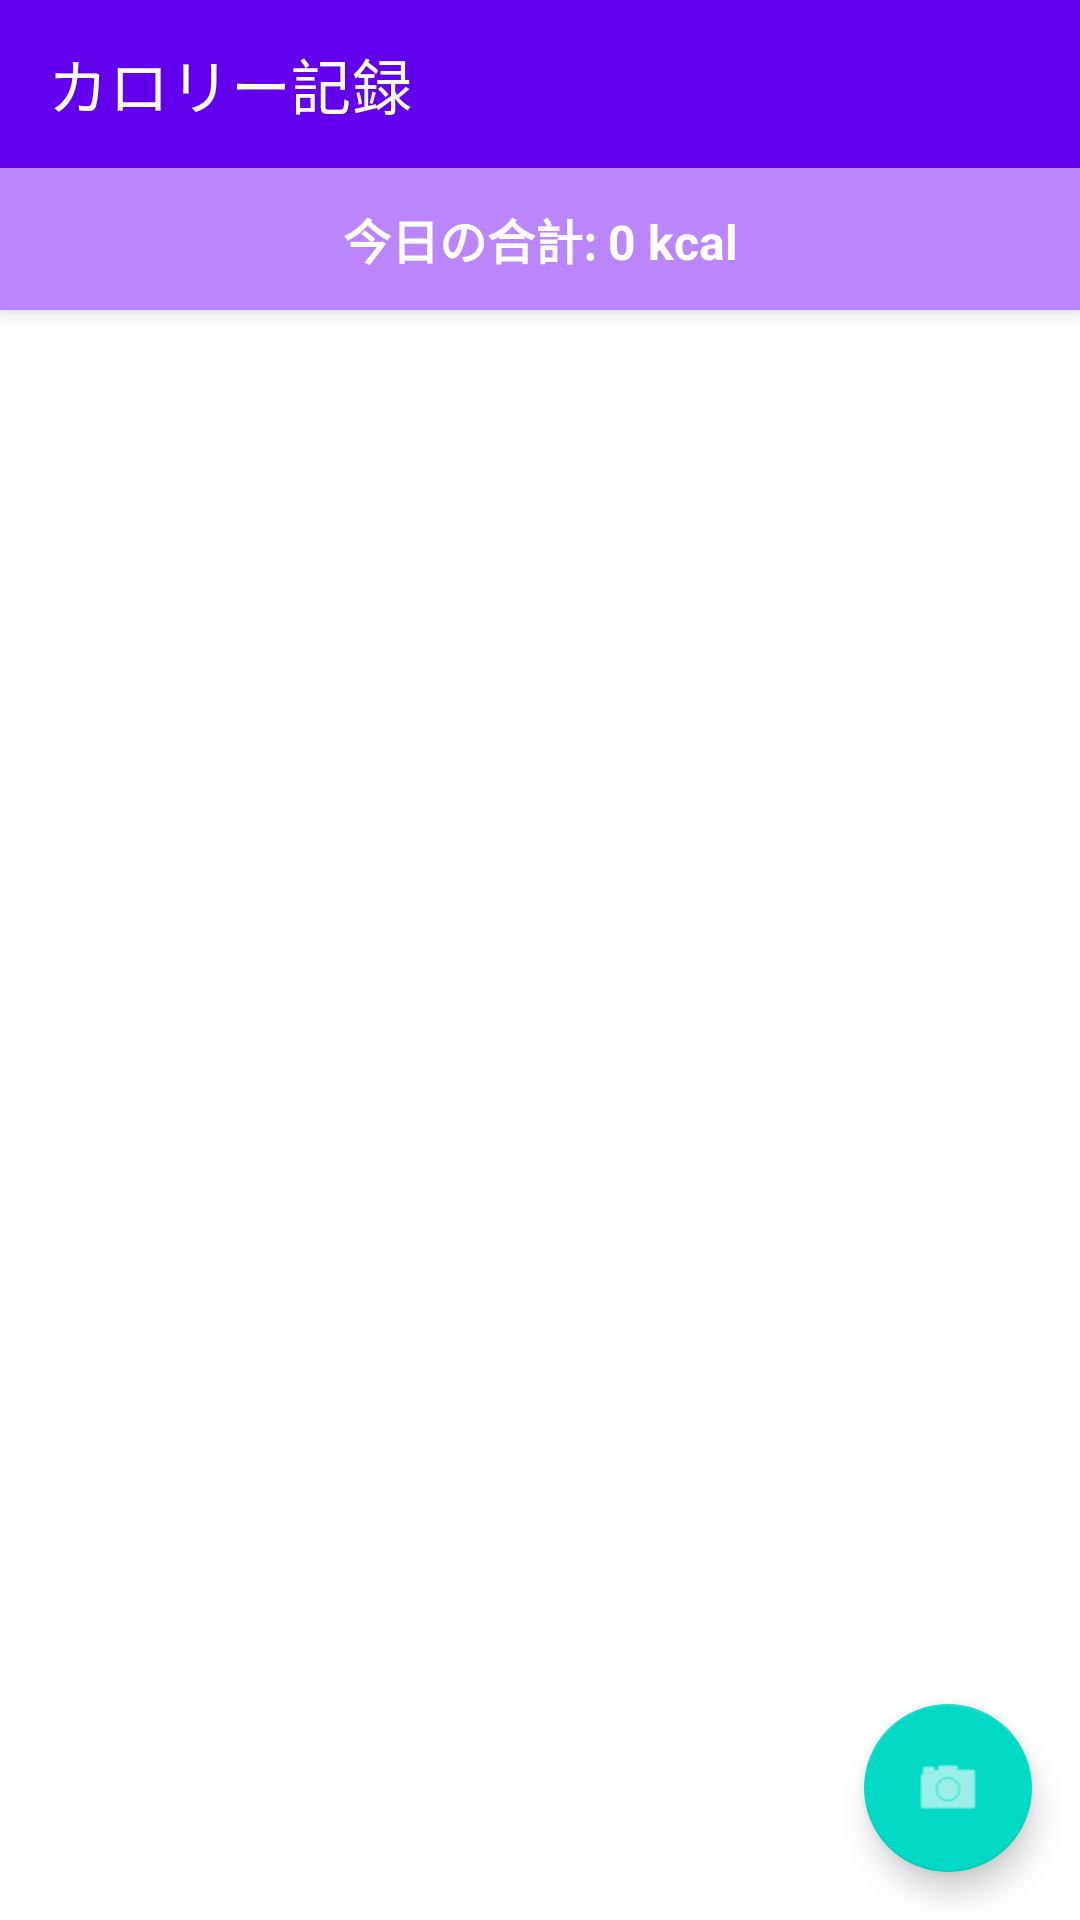

Point at icon controls on the screen. Image size 1080x1920, points as (x,y).
写真を撮る: (948,1788)
